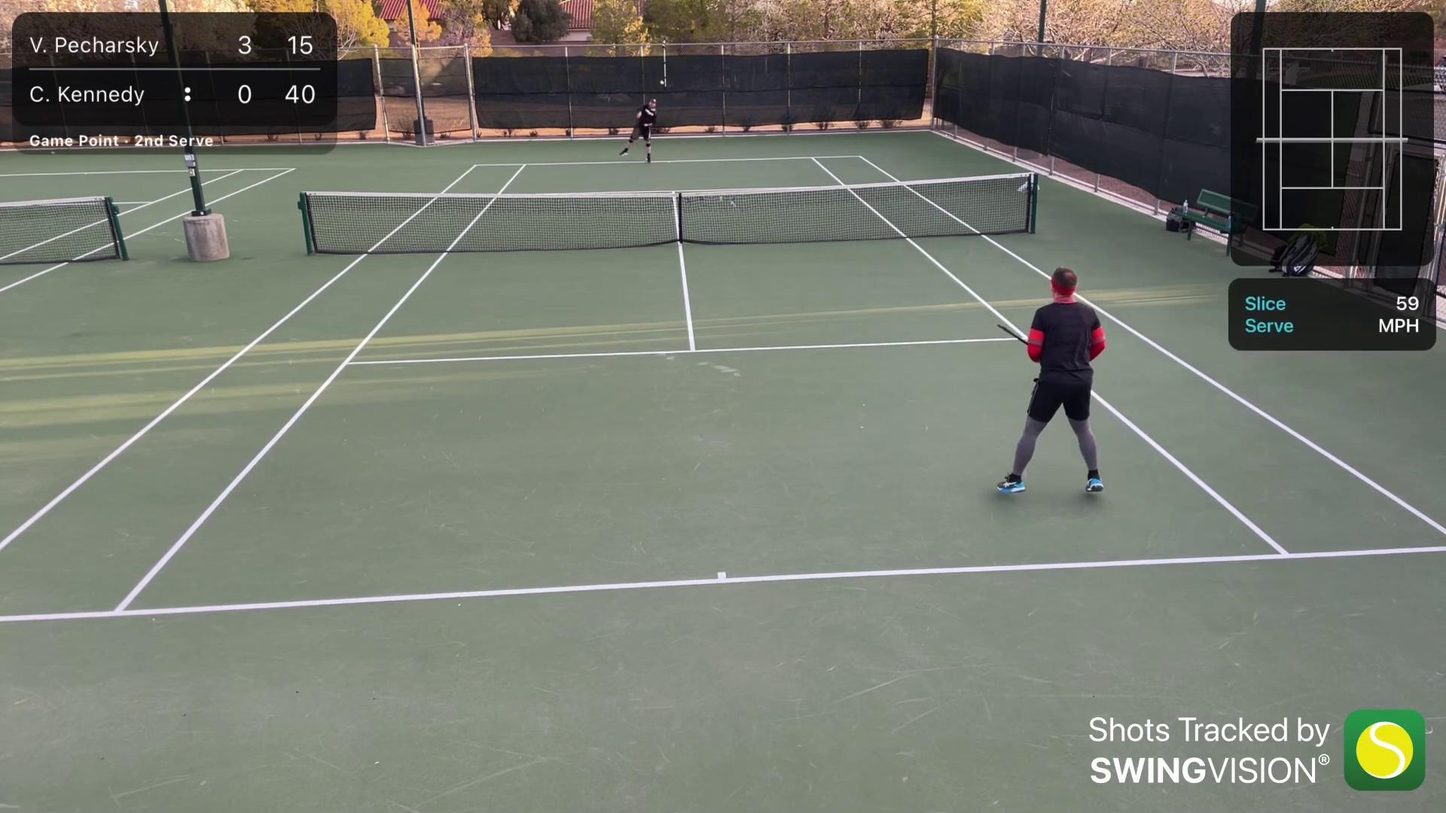ball: (339, 363, 347, 371), (658, 79, 665, 85)
